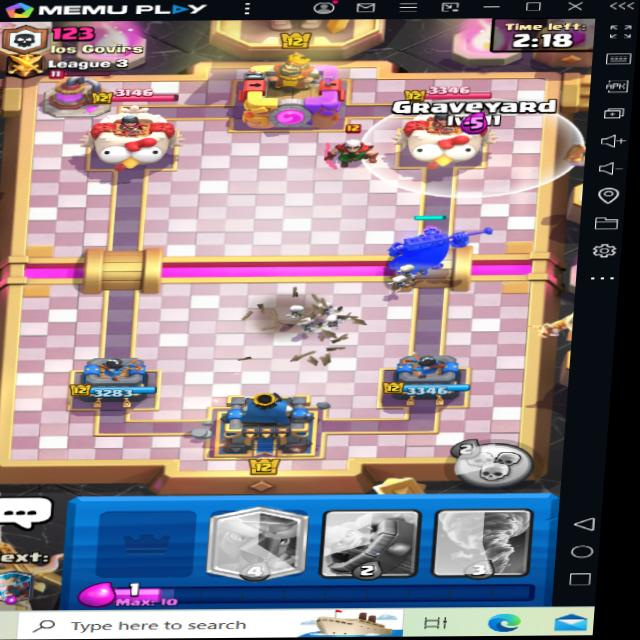elixir-collector: (35, 70, 110, 120)
magic-archer: (310, 122, 383, 173)
